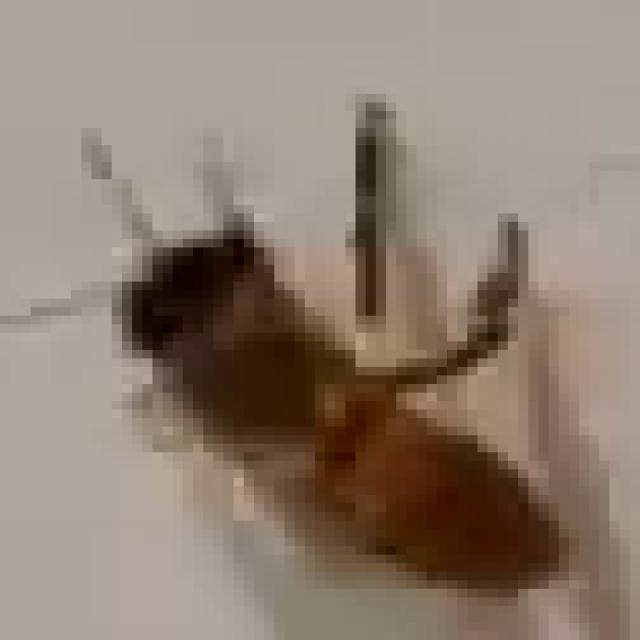honeybee: (106, 119, 579, 556)
